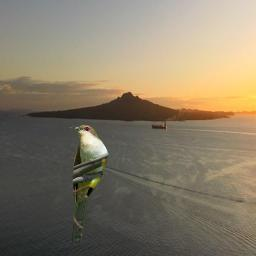Cuckoo: (69, 124, 109, 243)
